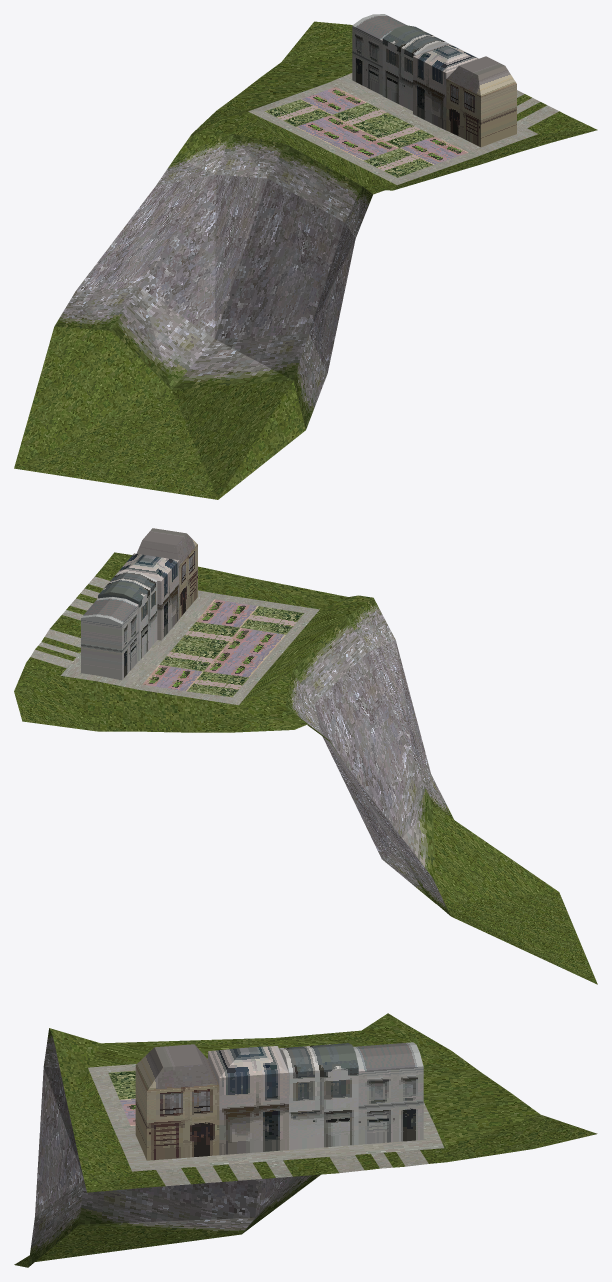
File: lod_sfw_boxwest05.obj
3 renders of one model, top to bottom at view 1: azimuth 30°, elevation 25°; view 2: azimuth 150°, elevation 25°; view 3: azimuth 270°, elevation 25°, orthographic. The views are drawn at different scales.
Parts seen in each view (by area): view 1: lod_sfw_boxwest05; view 2: lod_sfw_boxwest05; view 3: lod_sfw_boxwest05.
Part boxes in pixels (left/top/right/bottom): lod_sfw_boxwest05: left=14, top=14, right=597, bottom=499; lod_sfw_boxwest05: left=14, top=528, right=597, bottom=984; lod_sfw_boxwest05: left=14, top=1013, right=597, bottom=1267.
Bounding box in the file's own units: 83.94 × 47.29 × 58.81.
Materials: 10 (10 with a texture image).
